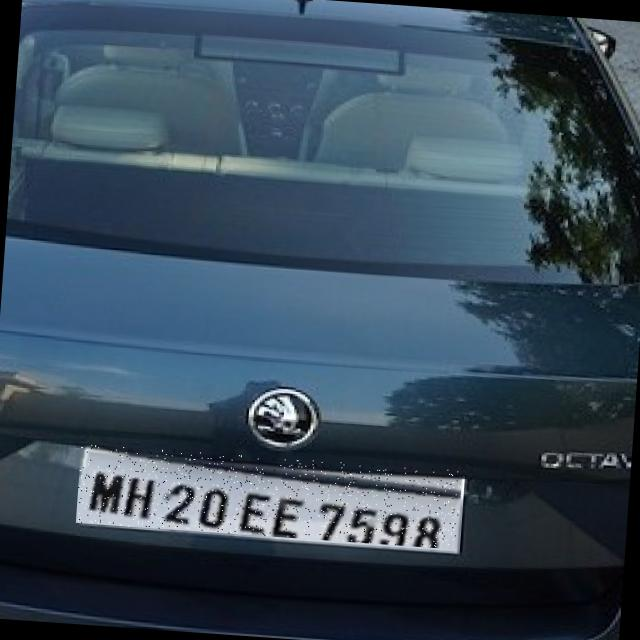Plate: (76, 445, 463, 550)
